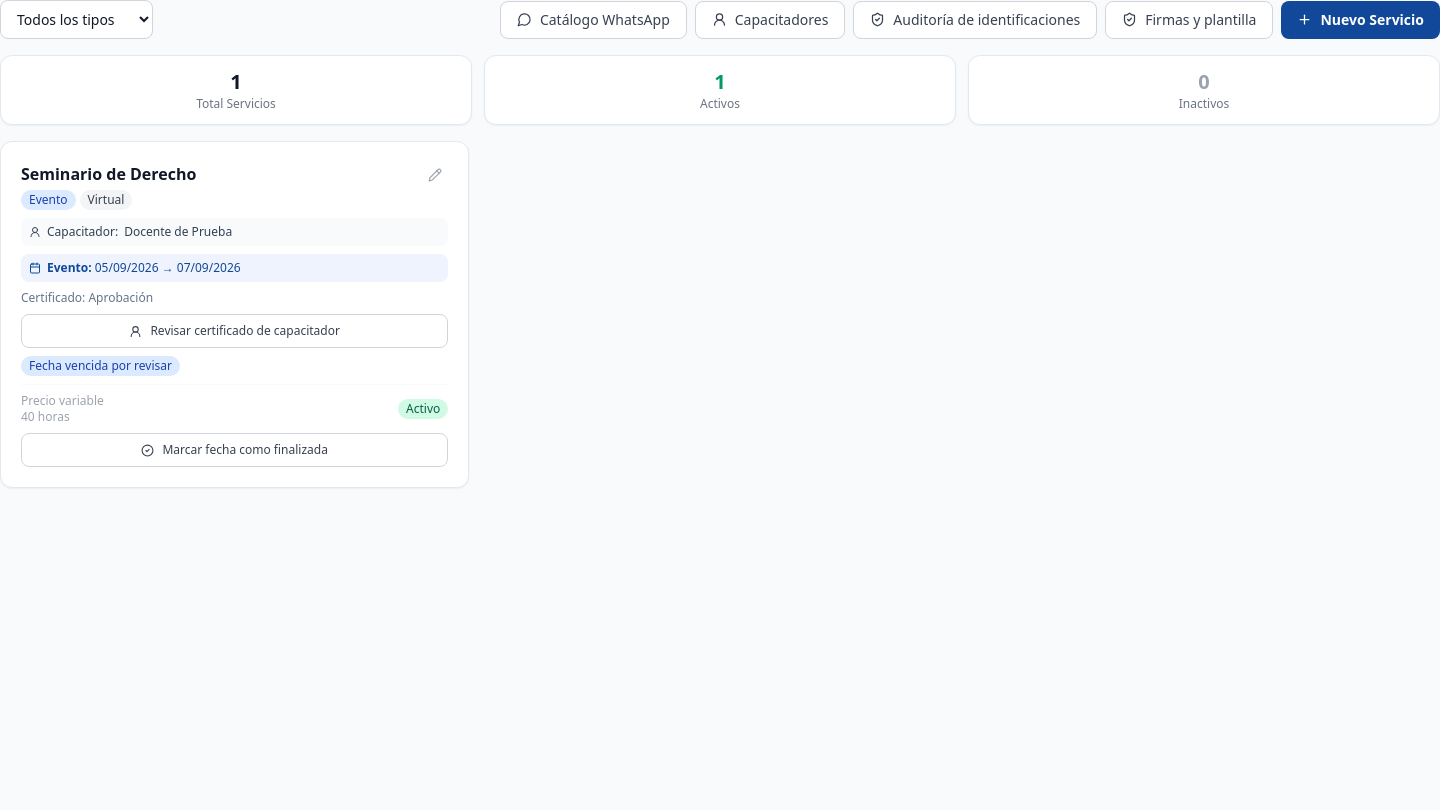
preparación de certificados de capacitador › muestra los datos leídos del backend y conserva bloqueada la emisión
The width and height of the screenshot is (1440, 810).
Click the button "Revisar certificado de capacitador": {"x": 235, "y": 331} [21,314,448,348]
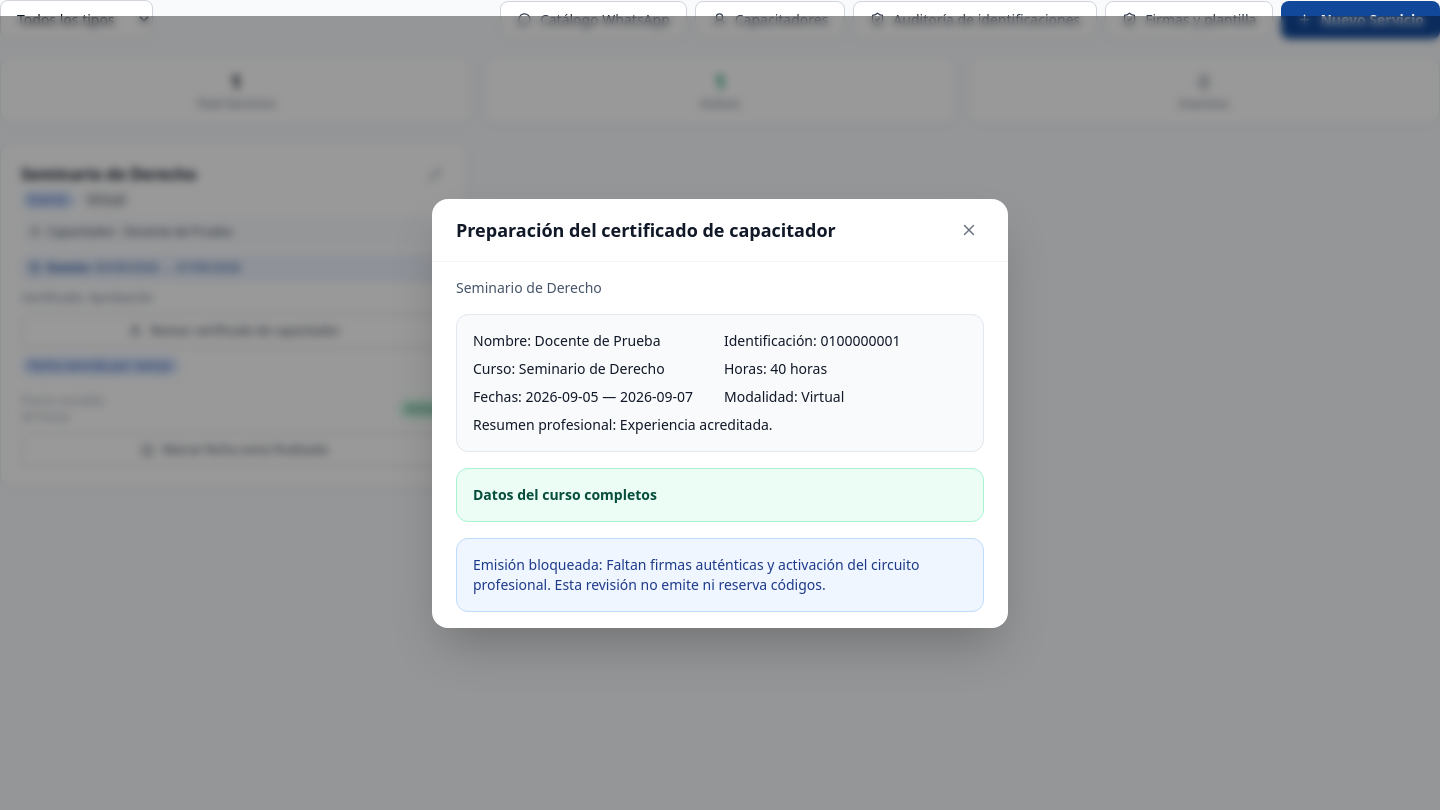
Expected: the text "Datos del curso completos" is shown, [473,484,657,504]
Expected: the text "Emisión bloqueada:" is shown, [473,554,606,574]
